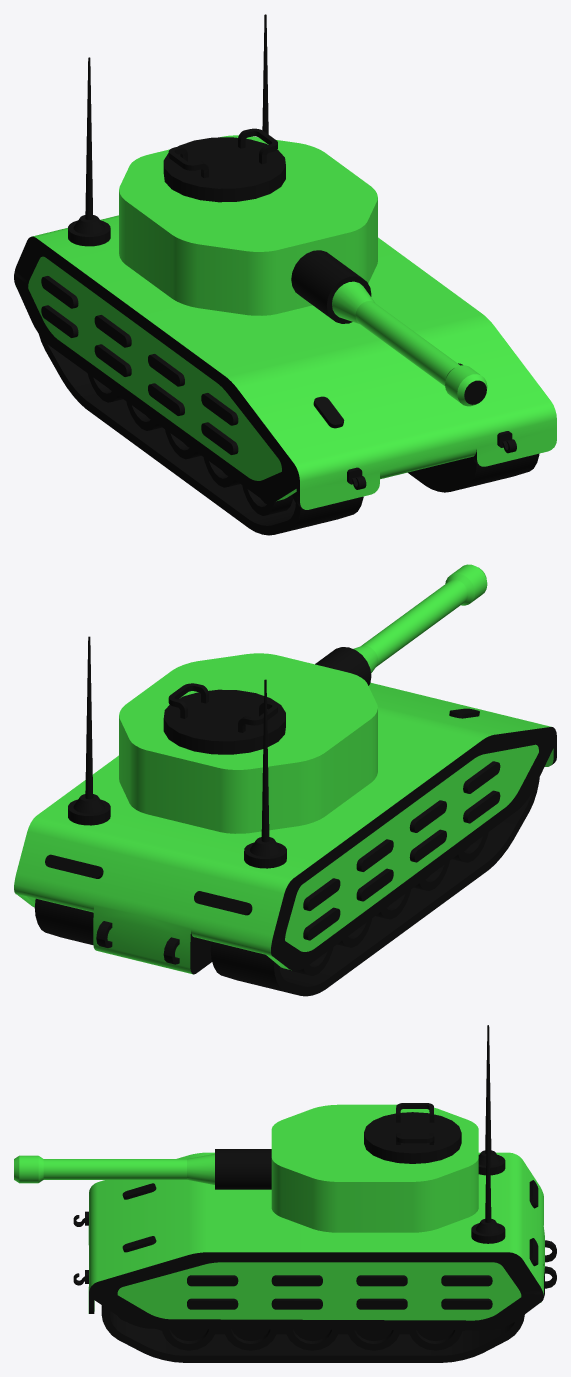
Rendered from Tank.fbx.
3 views of the same model, one above another, from view 1: azimuth 30°, elevation 25°; view 2: azimuth 150°, elevation 25°; view 3: azimuth 270°, elevation 25° (orthographic). The views are drawn at different scales.
Visible parts, largest first — view 1: Tank, Tank.001; view 2: Tank, Tank.001; view 3: Tank, Tank.001.
Part boxes in pixels (<box>): Tank: <box>14,14,556,535</box>; Tank.001: <box>119,128,487,406</box>; Tank: <box>14,636,556,996</box>; Tank.001: <box>119,564,487,833</box>; Tank: <box>73,1025,556,1362</box>; Tank.001: <box>14,1103,478,1232</box>.
Size of the model in its own units: 451 by 521 by 999.
